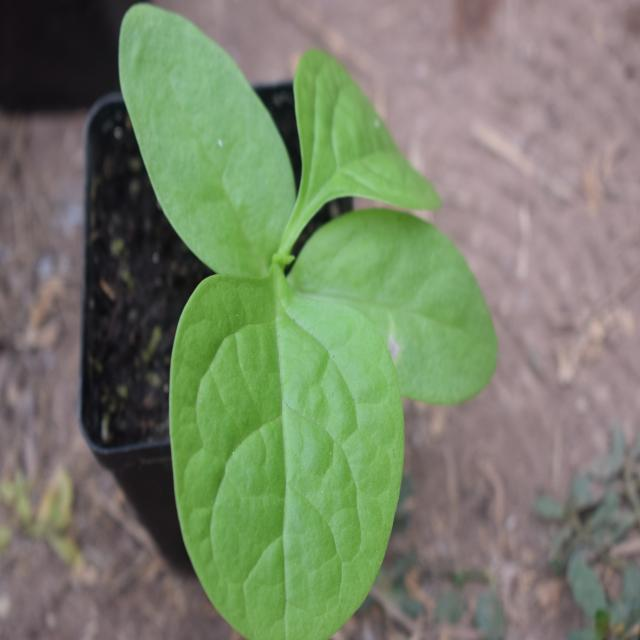Ceylon spinach: (120, 13, 495, 633)
